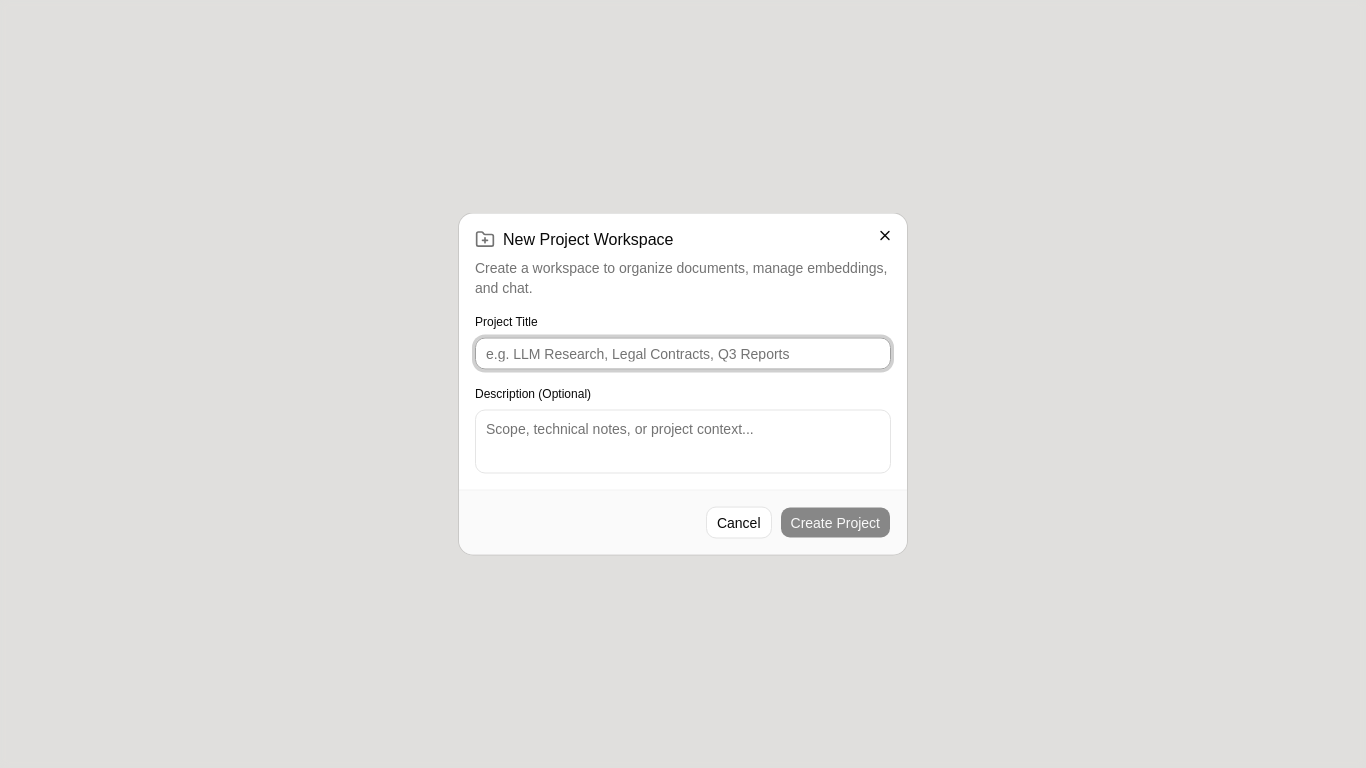
Test case: NewProjectModal component › disables create button when title is empty and enables when title is provided
The image size is (1366, 768).
Check: the button "Create Project" is disabled, box [780,506,891,538]
Type "Enterprise Search" into the field labelled "Project Title" at [683, 354], box [475,338,891,370]
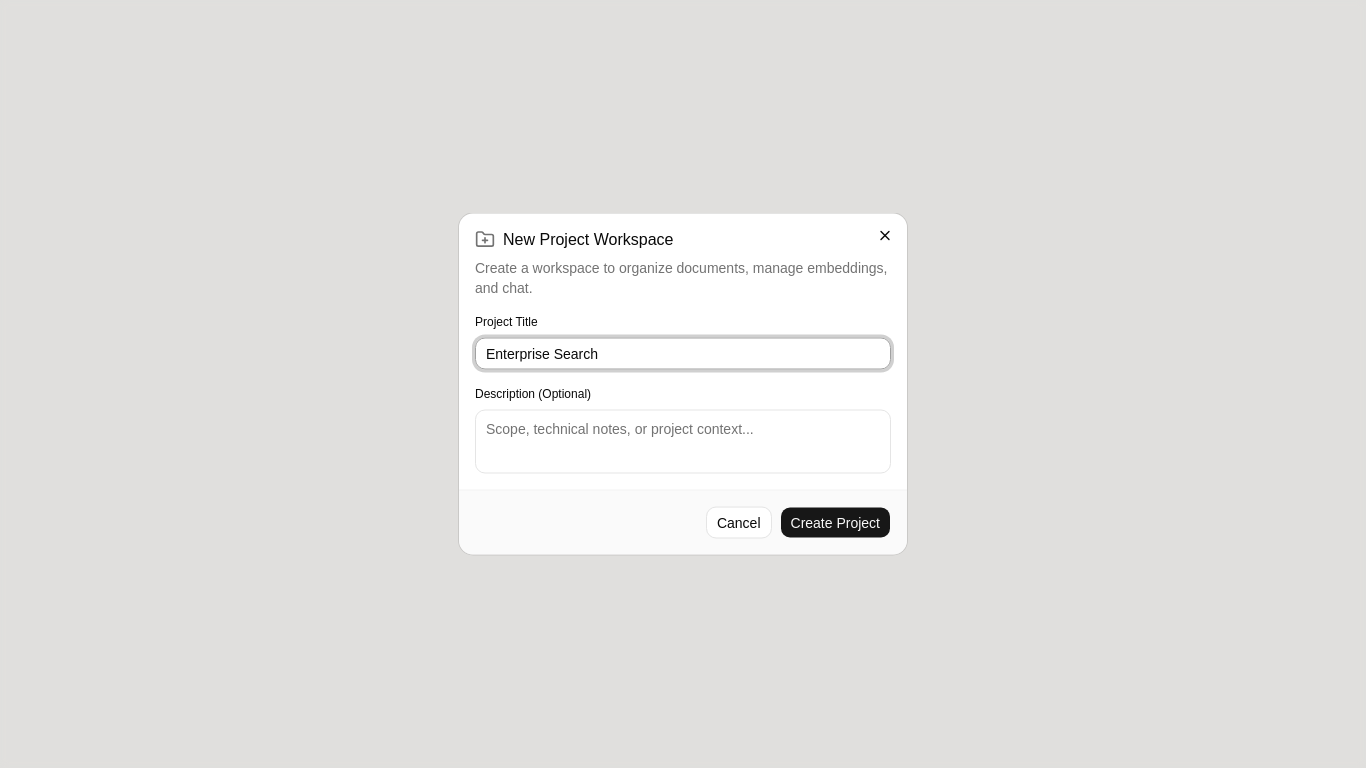
Check: the button "Create Project" is enabled, box [780,506,891,538]
